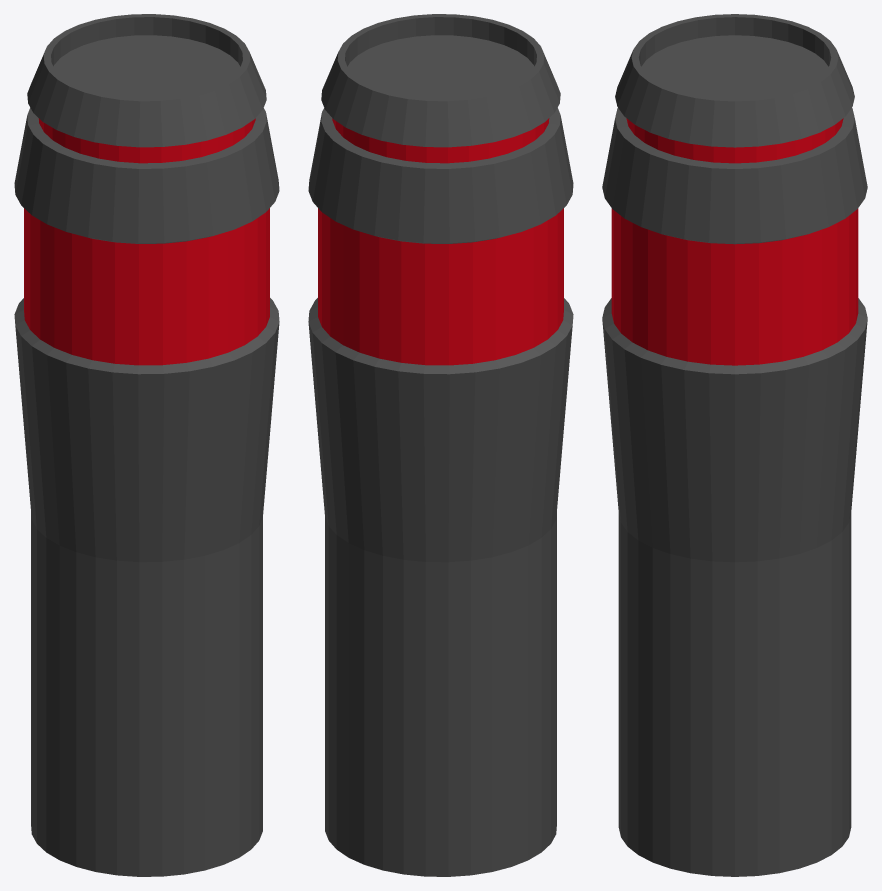
The model's file is Plastic_Collector.fbx.
The picture shows the model from 3 angles, left to right: view 1: azimuth 30°, elevation 25°; view 2: azimuth 150°, elevation 25°; view 3: azimuth 270°, elevation 25°; orthographic projection.
Visible parts, largest first — view 1: Collector; view 2: Collector; view 3: Collector.
Part boxes in pixels (bbox=[...]): Collector: bbox=[14, 14, 279, 876]; Collector: bbox=[308, 14, 573, 876]; Collector: bbox=[602, 14, 867, 876].
Size of the model in its own units: 105 by 335 by 105.
